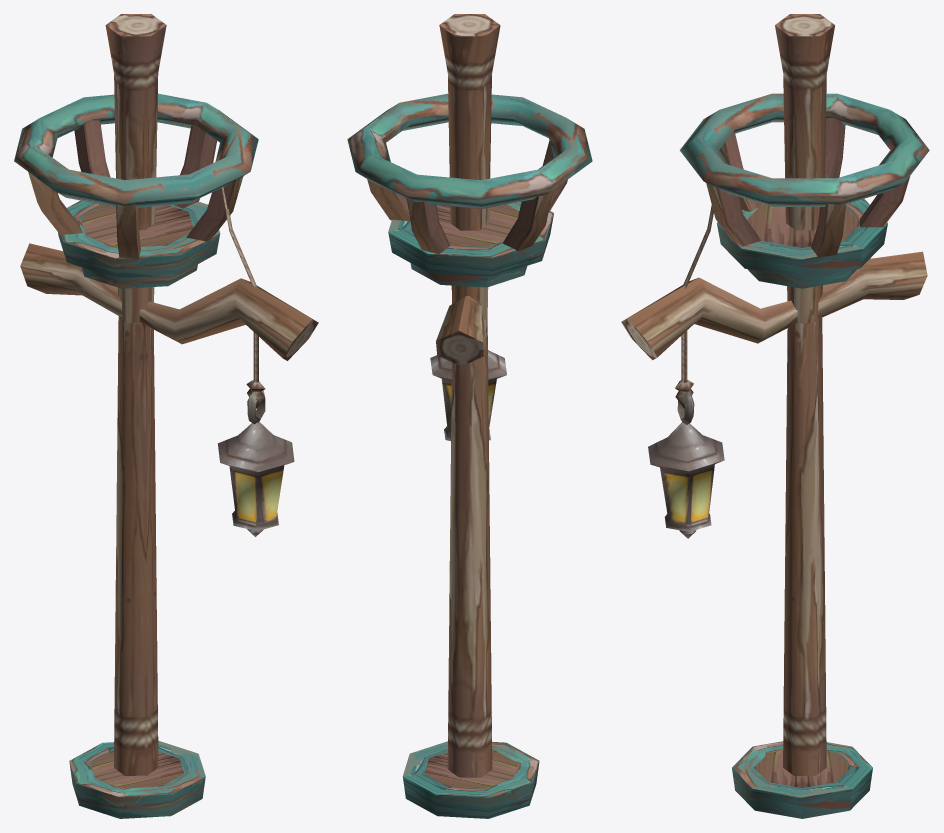
The model's file is Map_05_light01.FBX.
3 views of the same model, side by side, from view 1: azimuth 30°, elevation 25°; view 2: azimuth 150°, elevation 25°; view 3: azimuth 270°, elevation 25° (orthographic).
Parts seen in each view (by area): view 1: Map_05_light01; view 2: Map_05_light01; view 3: Map_05_light01.
Boxes of the visible parts, x1,y1,x2,y2 form: Map_05_light01: (14,14,318,818); Map_05_light01: (347,14,592,818); Map_05_light01: (621,14,929,818).
Bounding box in the file's own units: 188 × 664 × 243.
